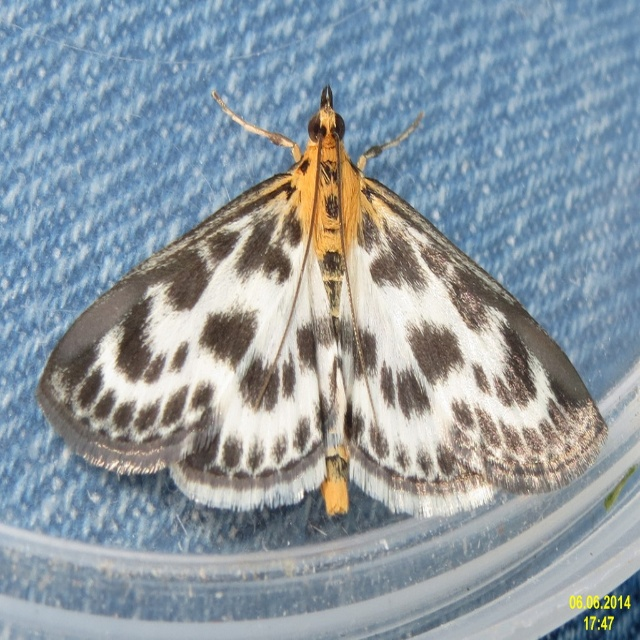Butterfly: (34, 58, 614, 539)
